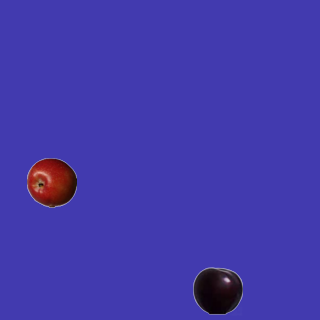Apple Braeburn: (26, 157, 76, 207)
Cherry Wax Black: (192, 265, 242, 315)
